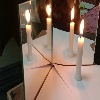fire: (79, 18, 84, 41)
